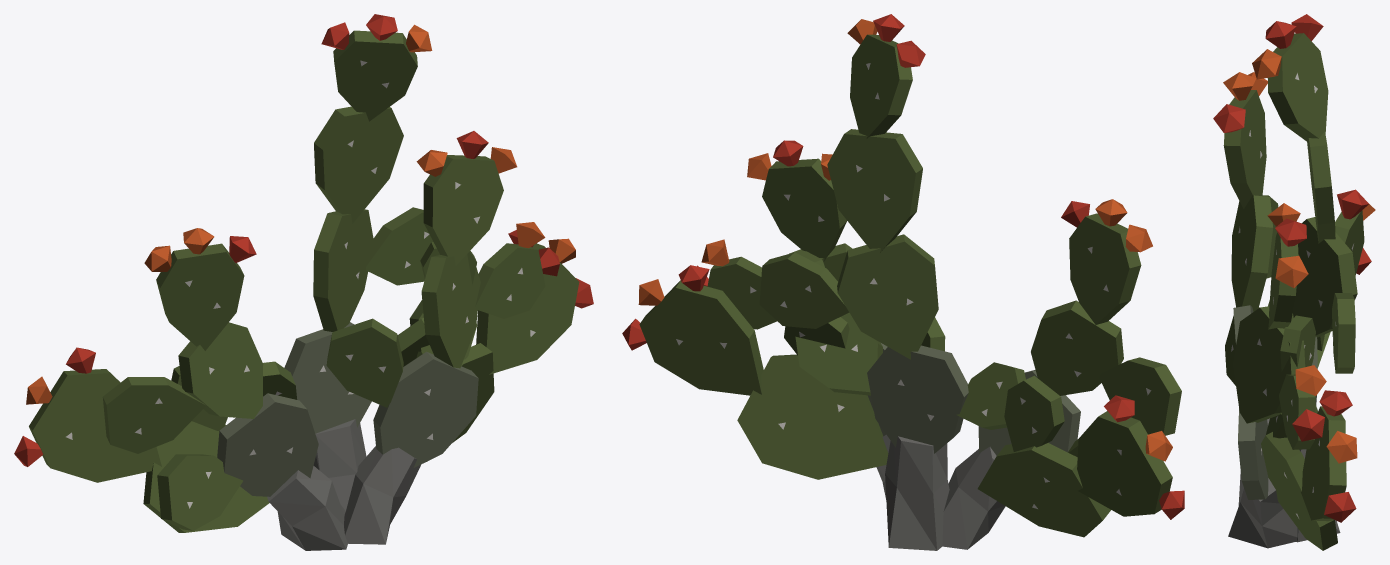
File: prickly-pear-cactus-57e065.glb
The picture shows the model from 3 angles, left to right: view 1: azimuth 30°, elevation 25°; view 2: azimuth 150°, elevation 25°; view 3: azimuth 270°, elevation 25°; orthographic projection. The views are drawn at different scales.
Parts seen in each view (by area): view 1: cactus; view 2: cactus; view 3: cactus.
Part boxes in pixels (x1,y1,x2,y2): cactus: (14, 14, 593, 550); cactus: (622, 14, 1184, 550); cactus: (1213, 14, 1375, 550).
Size of the model in its own units: 2.37 by 2.02 by 0.5654.
